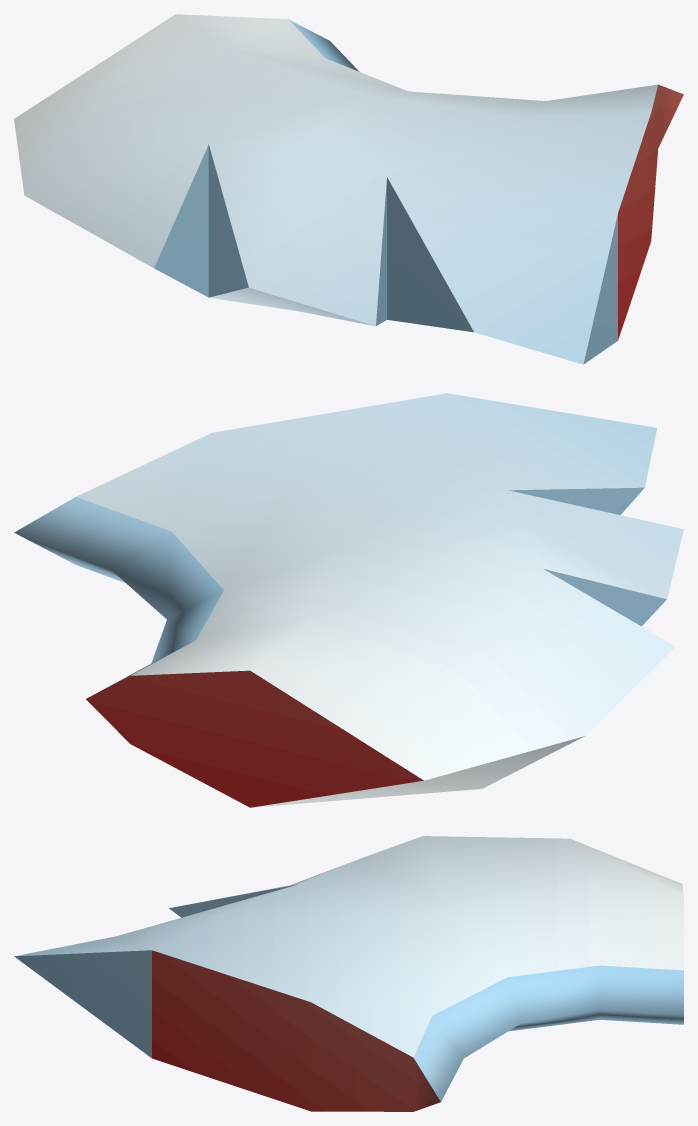
File: AngelWing_backarm_Adjusted.fbx
3 renders of one model, top to bottom at view 1: azimuth 30°, elevation 25°; view 2: azimuth 150°, elevation 25°; view 3: azimuth 270°, elevation 25°, orthographic. The views are drawn at different scales.
Visible parts, largest first — view 1: AngelWing_backarm_Adjusted; view 2: AngelWing_backarm_Adjusted; view 3: AngelWing_backarm_Adjusted.
Boxes of the visible parts, x1,y1,x2,y2 form: AngelWing_backarm_Adjusted: (14, 14, 683, 364); AngelWing_backarm_Adjusted: (14, 393, 683, 807); AngelWing_backarm_Adjusted: (14, 836, 683, 1111).
Bounding box in the file's own units: 9.77 × 2.45 × 11.18.
